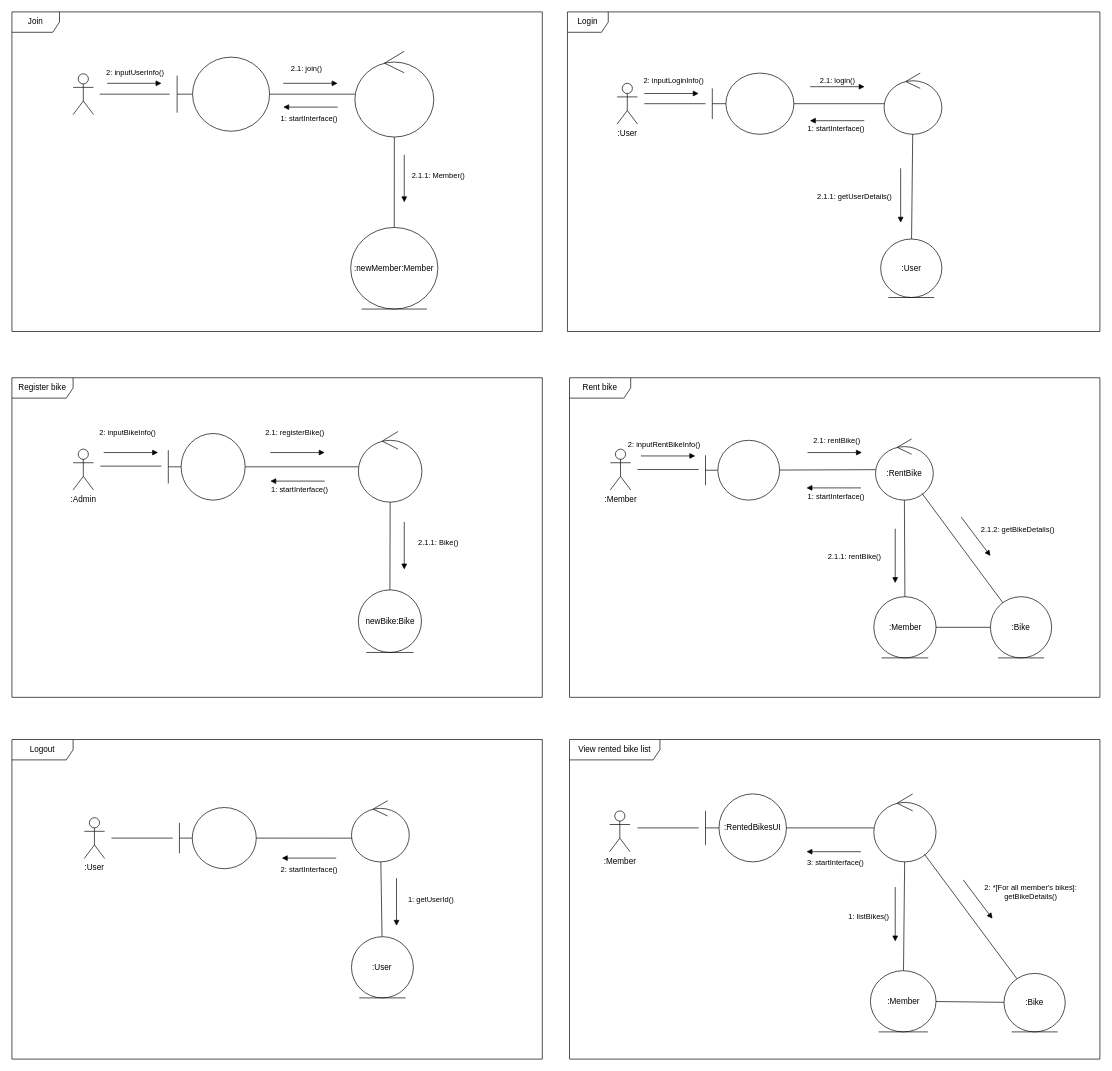
The diagram is 1112 pixels wide and 1071 high, and some of its shapes have lost their labels. The centre of each missing label's shape, as x and y in pixels:
":Guest" belongs at [83,94].
":Join" belongs at [394,94].
":JoinUI" belongs at [223,93].
":Login" belongs at [912,103].
":LoginUI" belongs at [753,103].
":Logout" belongs at [380,831].
":LogoutUI" belongs at [217,838].
":RegisterBike" belongs at [390,466].
":RegisterBikeUI" belongs at [206,466].
":RentBikeUI" belongs at [742,470].
":RentedBikes" belongs at [904,827].
